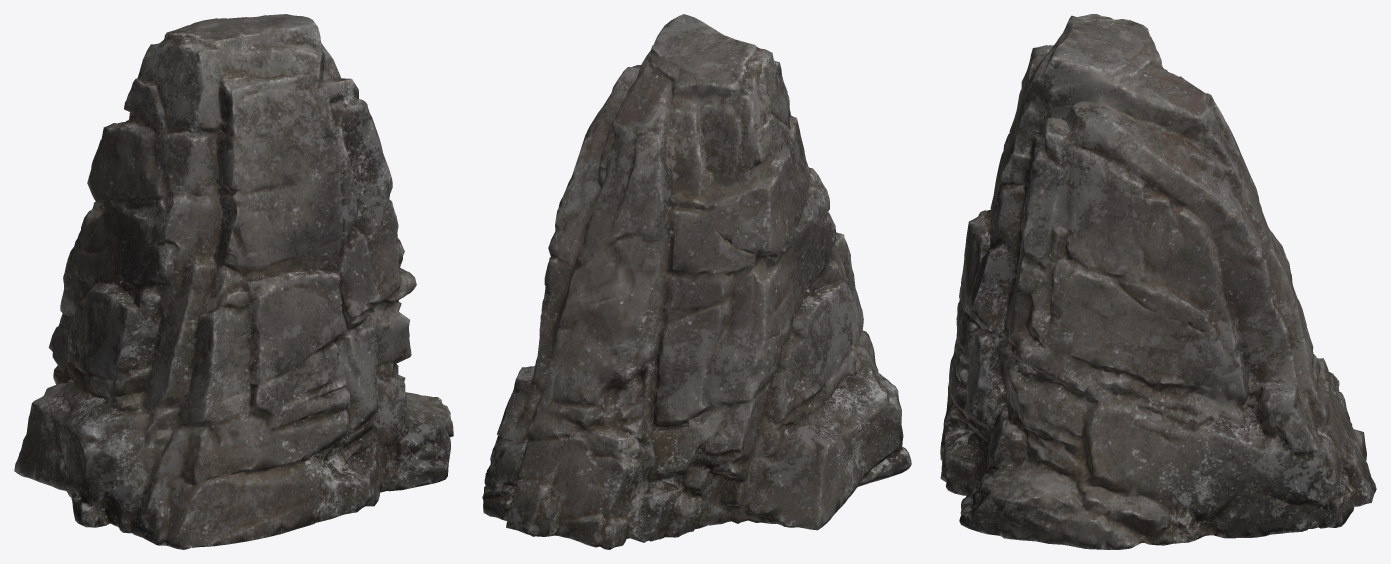
File: Roca Parada.glb
3 views of the same model, side by side, from view 1: azimuth 30°, elevation 25°; view 2: azimuth 150°, elevation 25°; view 3: azimuth 270°, elevation 25° (orthographic). The views are drawn at different scales.
Parts seen in each view (by area): view 1: low_poly; view 2: low_poly; view 3: low_poly.
Boxes of the visible parts, x1=… form: low_poly: x1=14, y1=14, x2=453, y2=549; low_poly: x1=482, y1=14, x2=911, y2=549; low_poly: x1=940, y1=14, x2=1376, y2=549.
Size of the model in its own units: 0.0225 by 0.0272 by 0.0244.
1 material, 1 textured.
